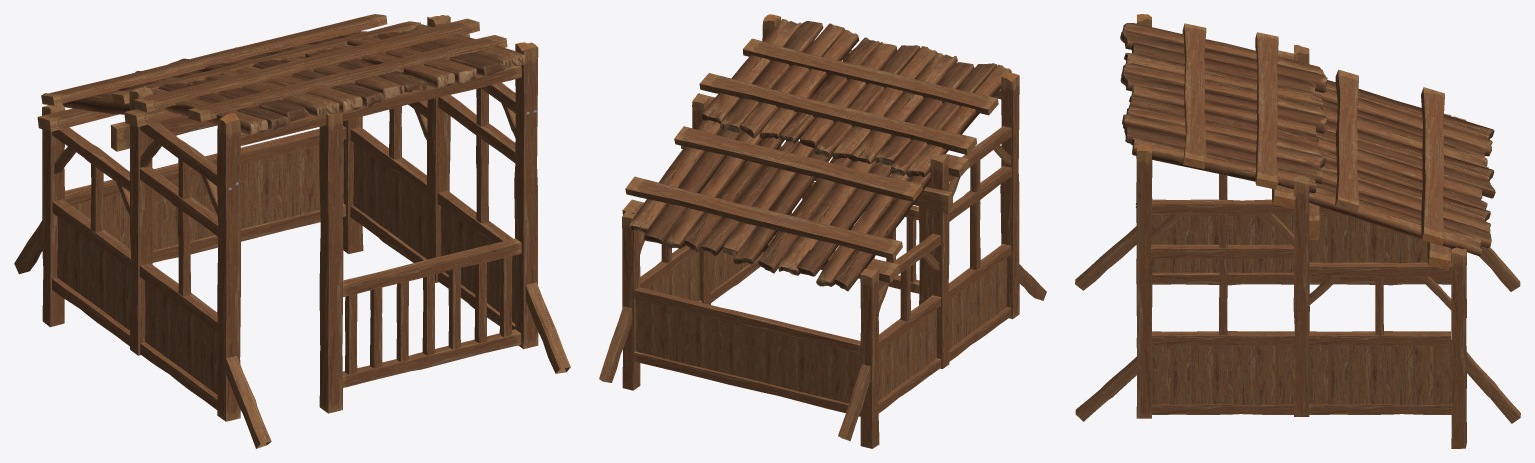
Rendered from SM_Farm_Stable.fbx.
3 renders of one model, left to right at view 1: azimuth 30°, elevation 25°; view 2: azimuth 150°, elevation 25°; view 3: azimuth 270°, elevation 25°, orthographic. The views are drawn at different scales.
Visible parts, largest first — view 1: SM_Farm_Stable_LOD0; view 2: SM_Farm_Stable_LOD0; view 3: SM_Farm_Stable_LOD0.
Boxes of the visible parts, <box> form: SM_Farm_Stable_LOD0: <box>14,14,570,448</box>; SM_Farm_Stable_LOD0: <box>599,14,1046,448</box>; SM_Farm_Stable_LOD0: <box>1075,14,1520,448</box>.
Size of what is drawn, in the model's own units: 439 by 421 by 567.
